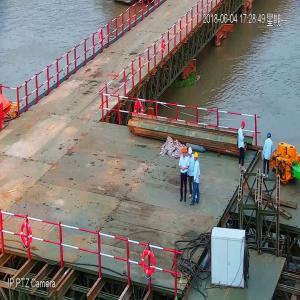blue: (268, 133, 272, 140)
red: (242, 121, 247, 131)
white: (189, 147, 194, 158)
yellow: (182, 148, 188, 158), (195, 152, 199, 162)
